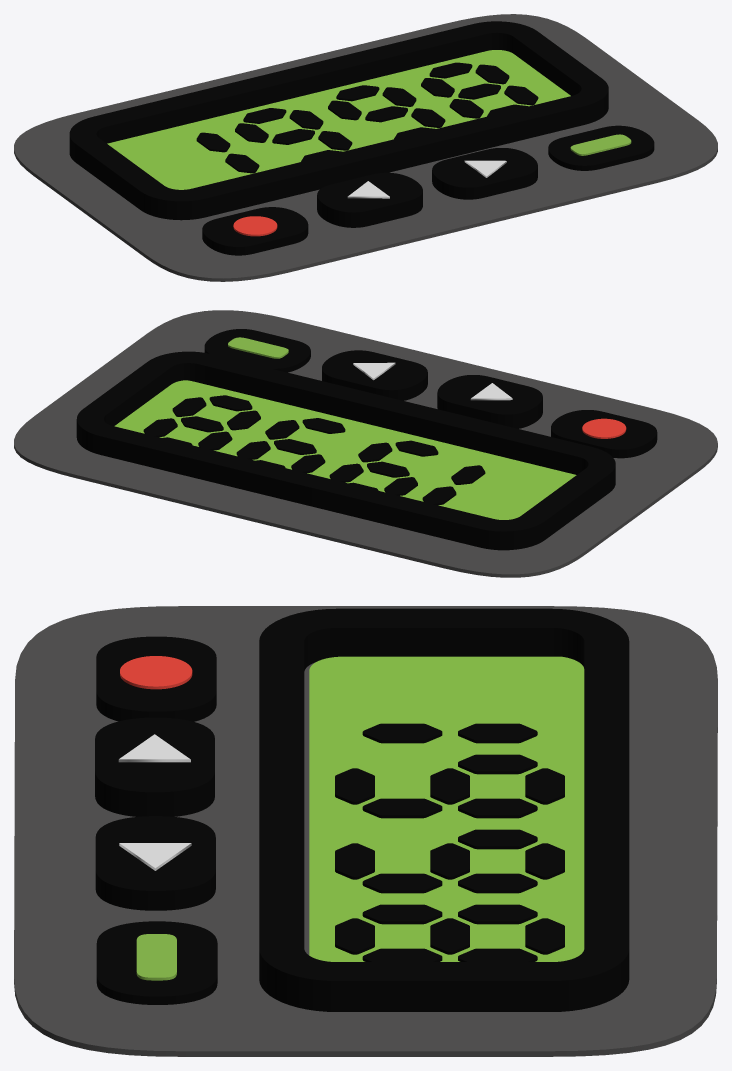
The model's file is emoji_u1f4df.glb.
3 views of the same model, one above another, from view 1: azimuth 30°, elevation 25°; view 2: azimuth 150°, elevation 25°; view 3: azimuth 270°, elevation 25° (orthographic). The views are drawn at different scales.
Visible parts, largest first — view 1: emoji_u1f4df; view 2: emoji_u1f4df; view 3: emoji_u1f4df.
Boxes of the visible parts, bbox=[...] form: emoji_u1f4df: bbox=[14, 14, 717, 281]; emoji_u1f4df: bbox=[14, 310, 717, 577]; emoji_u1f4df: bbox=[14, 606, 717, 1056].
Size of the model in its own units: 0.0339 by 0.0024 by 0.0226.
